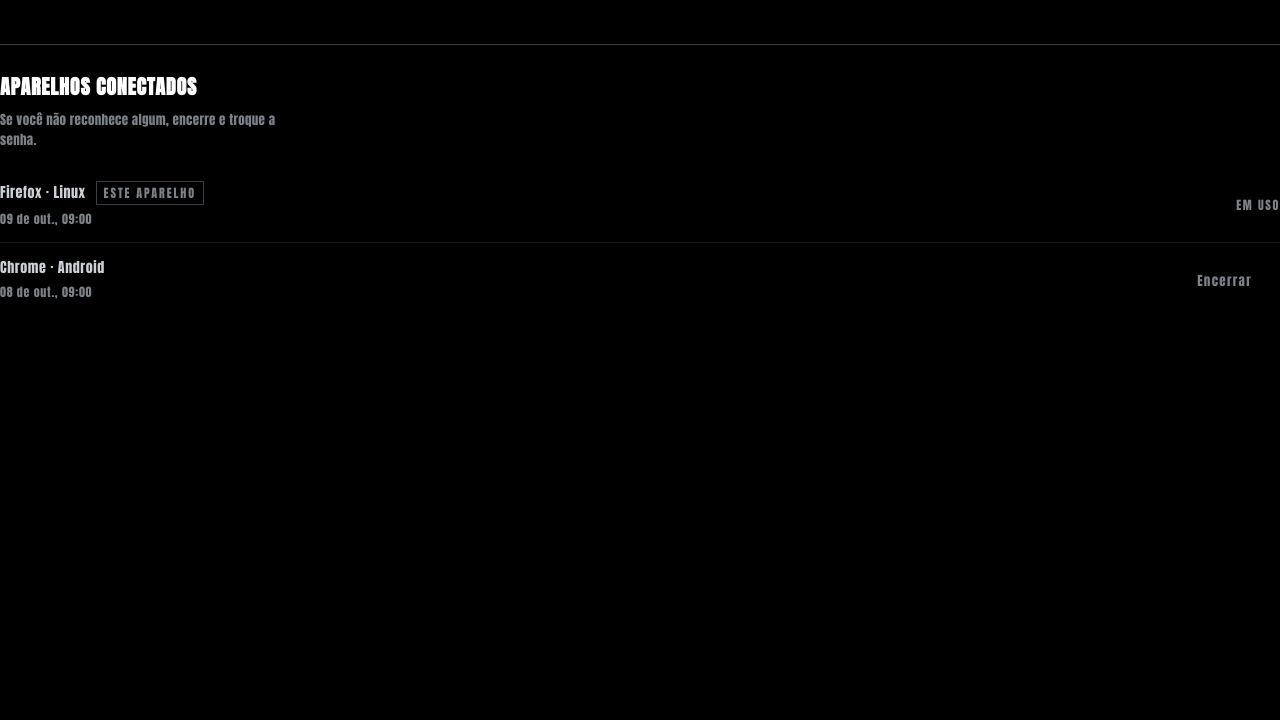
Test case: Sessoes: foco na volta do modal da senha › cancelar devolve o foco ao Encerrar da linha
The image size is (1280, 720).
Submit the form "Encerrar", box [1197, 267, 1279, 291]
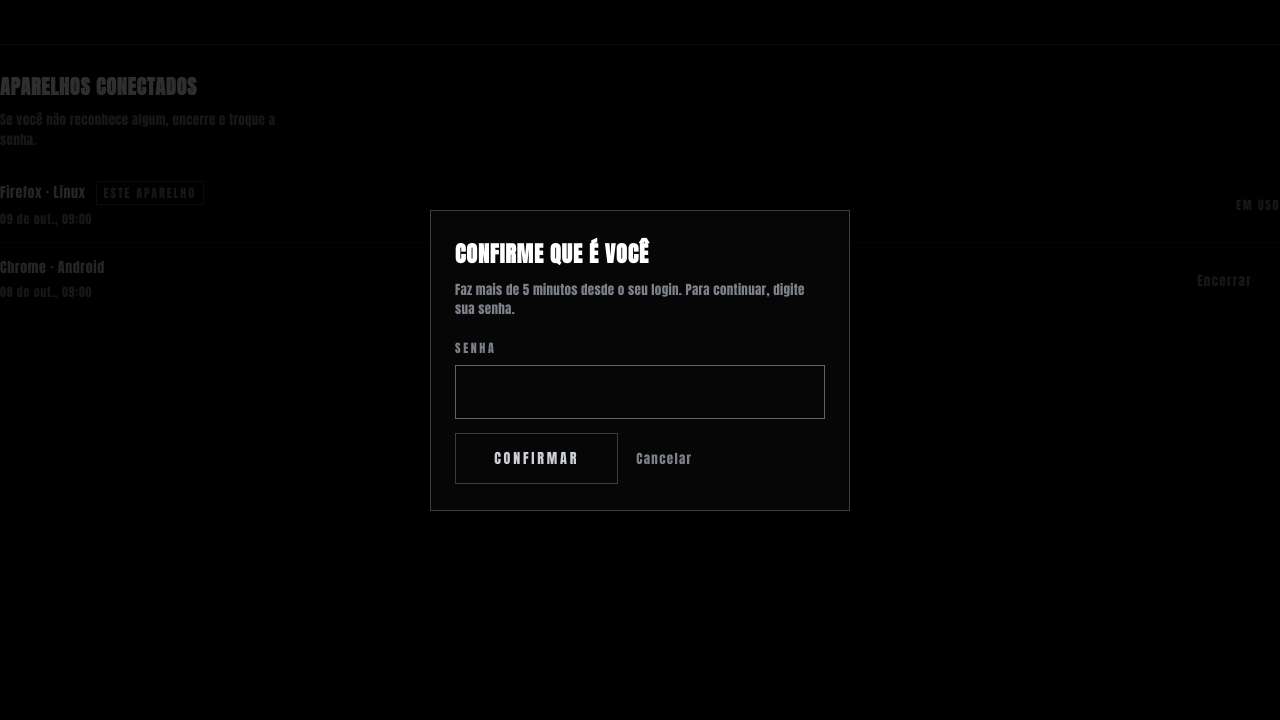
Result: the dialog is shown
Click the button "Cancelar" at (664, 458), box [636, 448, 692, 468]
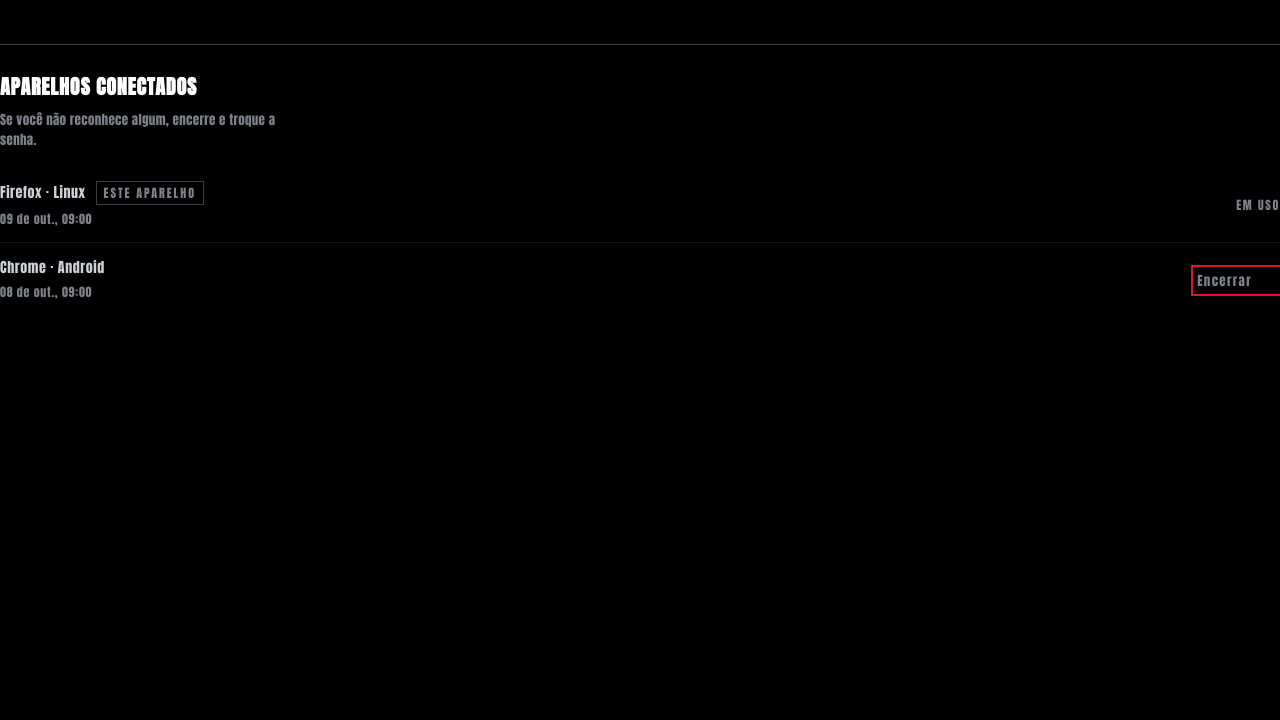
Result: the dialog is gone
